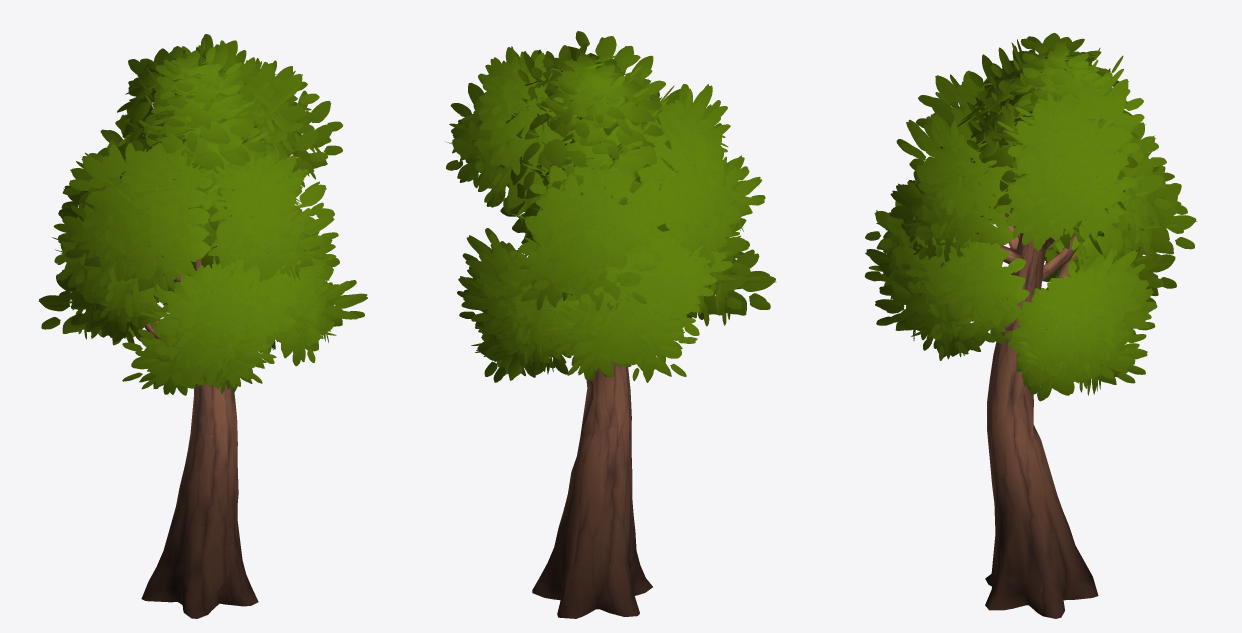
File: CommonTree_1.glb
3 views of the same model, side by side, from view 1: azimuth 30°, elevation 25°; view 2: azimuth 150°, elevation 25°; view 3: azimuth 270°, elevation 25° (orthographic). The views are drawn at different scales.
Visible parts, largest first — view 1: CommonTree_1; view 2: CommonTree_1; view 3: CommonTree_1.
Part boxes in pixels (bbox=[...]): CommonTree_1: bbox=[38, 34, 367, 618]; CommonTree_1: bbox=[445, 31, 776, 618]; CommonTree_1: bbox=[864, 33, 1197, 618].
Bounding box in the file's own units: 4.31 × 7.26 × 4.58.
2 materials, 2 textured.
